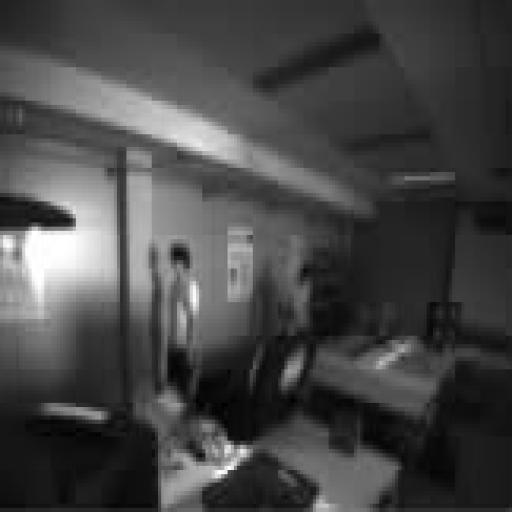human: (165, 244, 199, 402)
